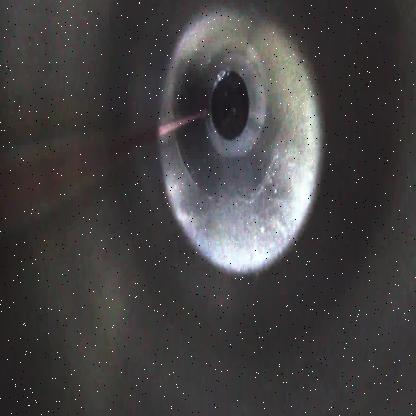NoCrack: (156, 0, 322, 277)
